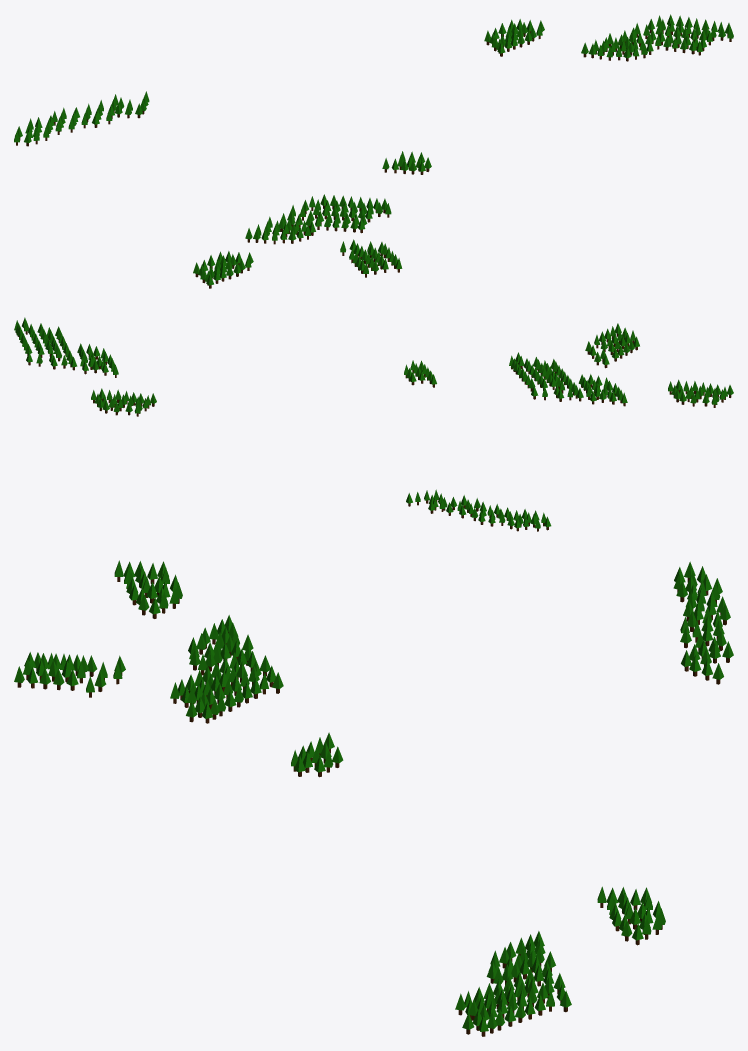
File: trees2.fbx
The picture shows the model from 3 angles, top to bottom: view 1: azimuth 30°, elevation 25°; view 2: azimuth 150°, elevation 25°; view 3: azimuth 270°, elevation 25°; orthographic projection. The views are drawn at different scales.
Parts seen in each view (by area): view 1: 29R, Esouth, N, 11_12, SF, Y, ENorth; view 2: Esouth, 29R, N, 11_12, SF, Y, ENorth; view 3: Esouth, 29R, N, 11_12, Y, SF, ENorth.
Boxes of the visible parts, x1=… form: 29R: x1=581, y1=14, x2=733, y2=61; Esouth: x1=245, y1=194, x2=391, y2=244; N: x1=14, y1=91, x2=149, y2=146; 11_12: x1=340, y1=239, x2=402, y2=277; SF: x1=193, y1=251, x2=253, y2=288; Y: x1=484, y1=19, x2=544, y2=56; ENorth: x1=382, y1=151, x2=431, y2=174; Esouth: x1=509, y1=352, x2=627, y2=406; 29R: x1=14, y1=317, x2=118, y2=377; N: x1=406, y1=489, x2=551, y2=531; 11_12: x1=585, y1=323, x2=639, y2=368; SF: x1=668, y1=379, x2=733, y2=407; Y: x1=91, y1=388, x2=156, y2=416; ENorth: x1=404, y1=360, x2=436, y2=387; Esouth: x1=170, y1=615, x2=283, y2=723; 29R: x1=455, y1=931, x2=571, y2=1036; N: x1=673, y1=561, x2=733, y2=684; 11_12: x1=14, y1=652, x2=125, y2=697; Y: x1=597, y1=886, x2=665, y2=945; SF: x1=114, y1=560, x2=182, y2=618; ENorth: x1=291, y1=732, x2=343, y2=777.
Size of the model in its own units: 30569 by 864 by 20058.
